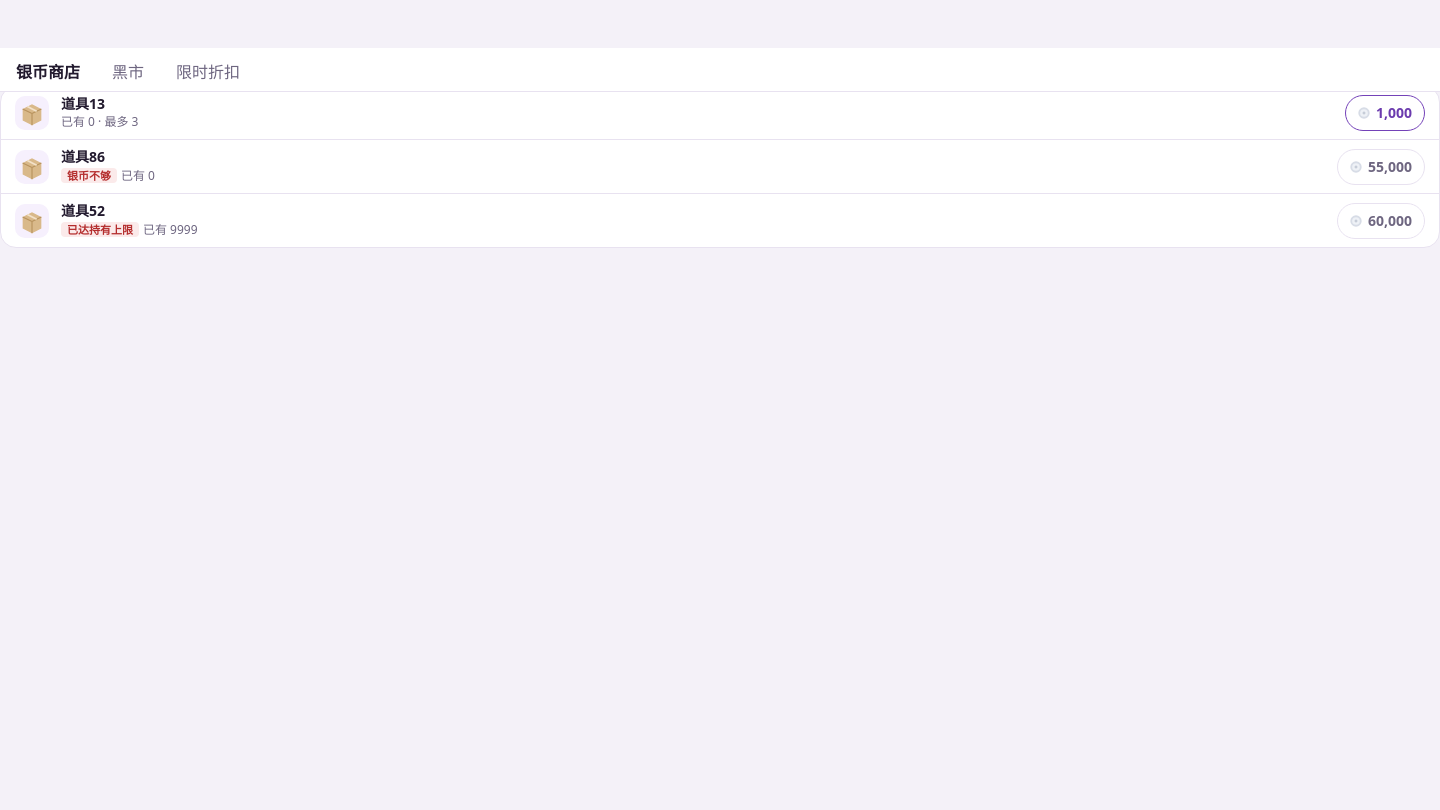
Scenario: ShopView（问题记录：商店不显示最大可购买数量） › 买不了时价格按钮变灰但能点开看说明，面板里写原因、买的按钮灰掉（P8 终审 I3）
Click the button with test id "buy-86". click: (1381, 167)
box: x1=1337 y1=149 x2=1425 y2=185
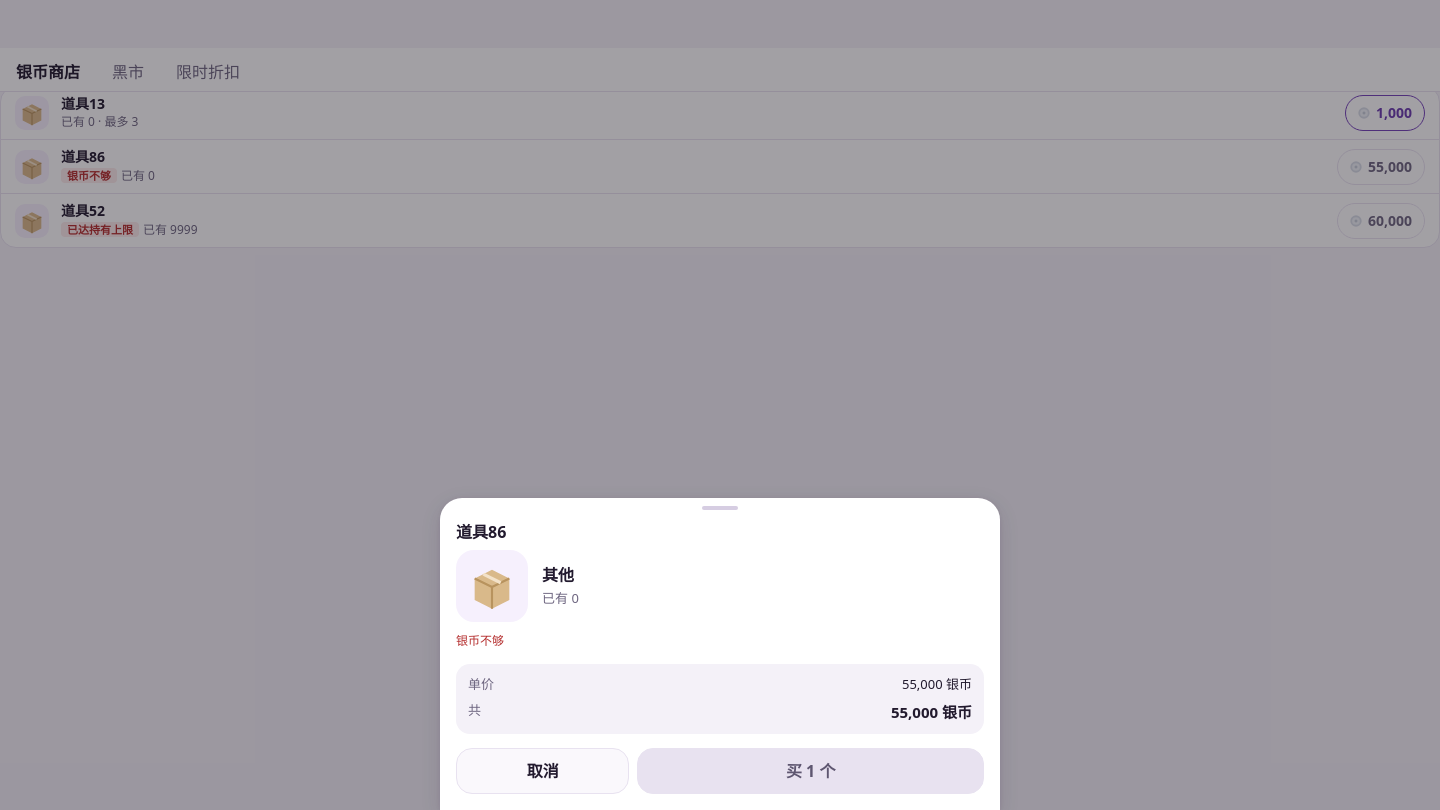
Expected: the text with test id "cap-86" reads "银币不够", x1=67 y1=168 x2=111 y2=183
Now the text with test id "sheet-reason" reads "银币不够", box x1=456 y1=632 x2=504 y2=649
Now the button with test id "sheet-buy" is disabled, box x1=637 y1=748 x2=984 y2=794
